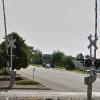Traffic light: (77, 52, 100, 73)
